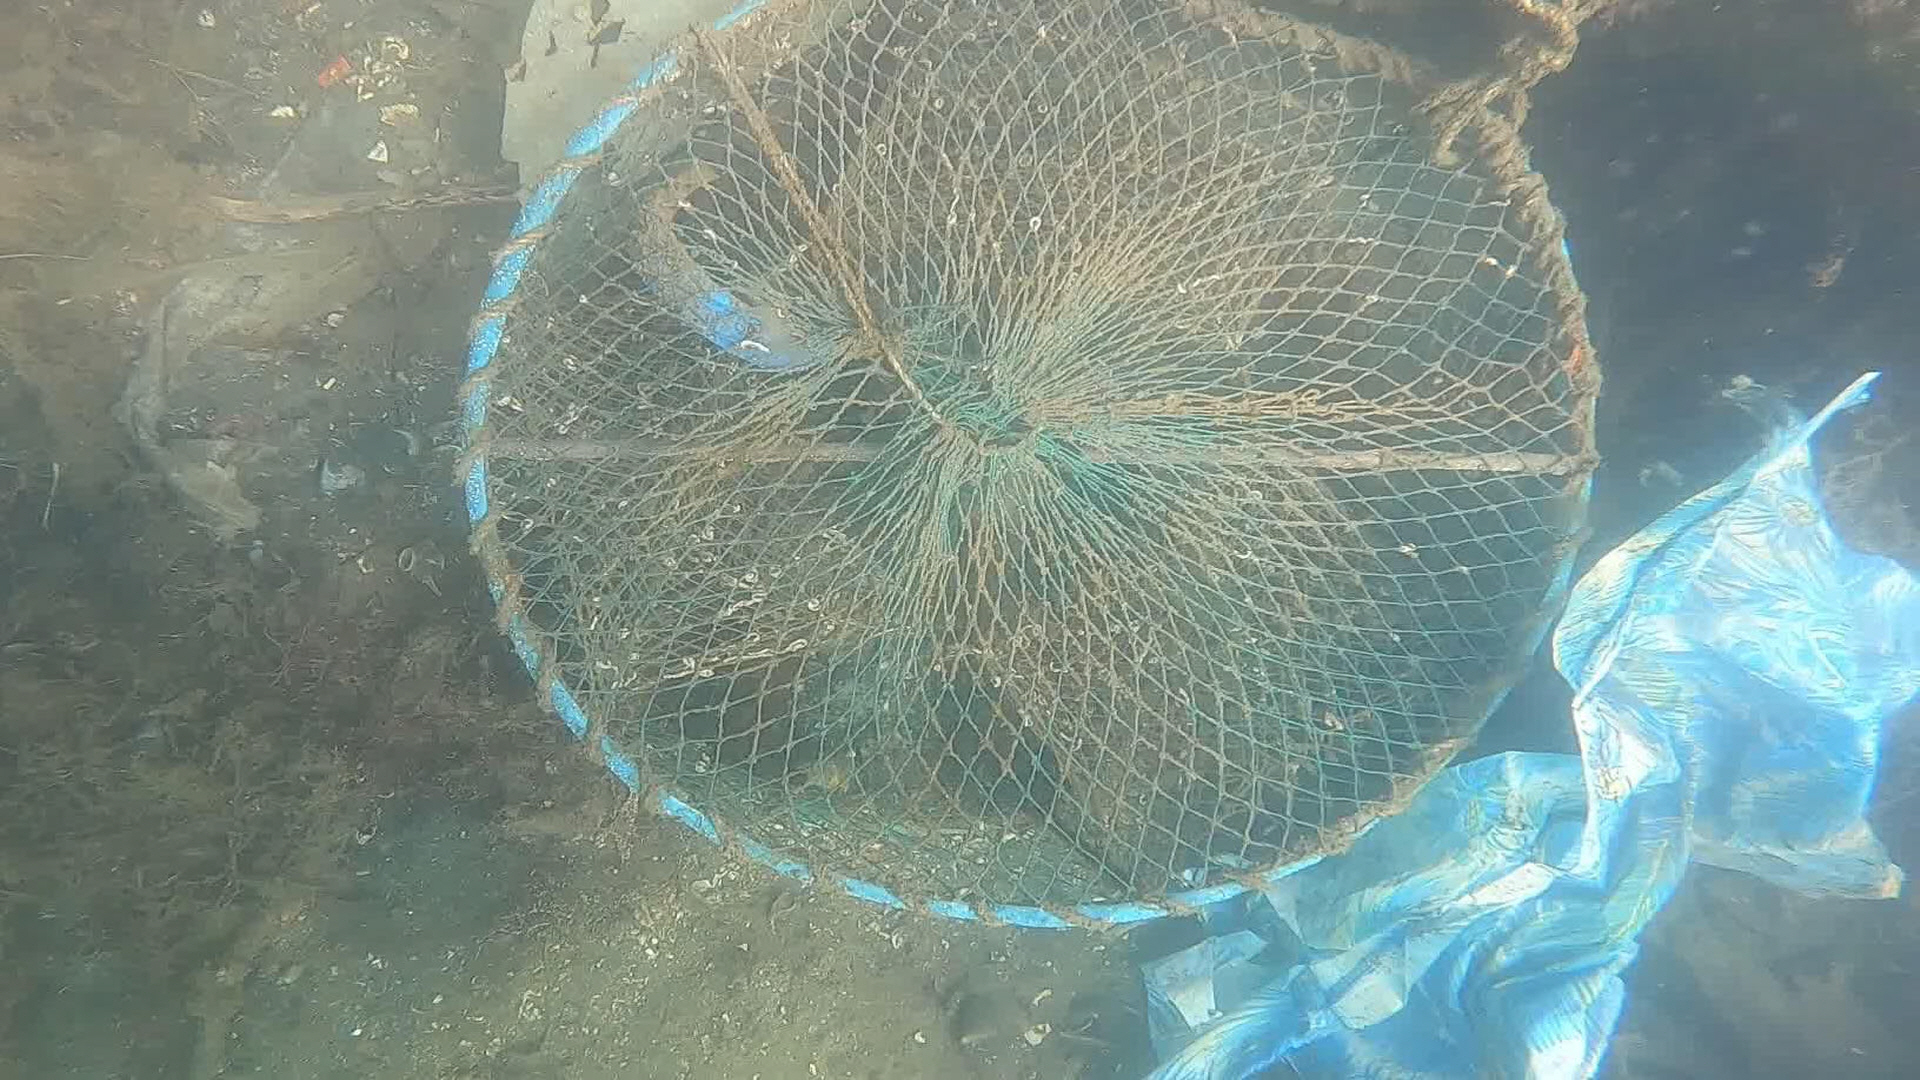bundle of ropes: (1400, 0, 1614, 171)
circular fish trap: (460, 0, 1598, 926)
